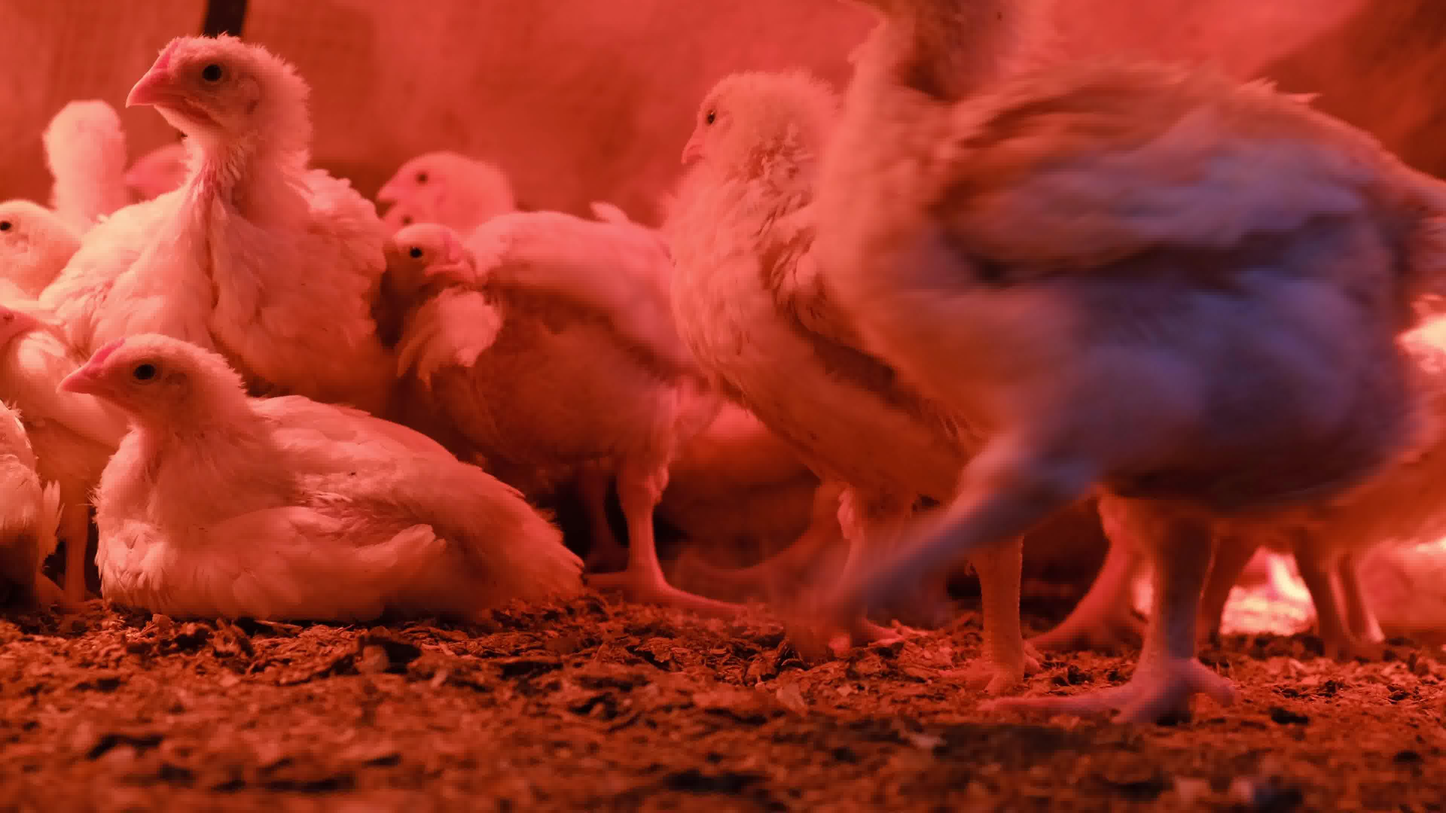AbNormal: (59, 330, 585, 619), (0, 286, 49, 608)
Normal: (821, 0, 1372, 732), (673, 68, 1042, 691), (367, 155, 744, 618), (43, 34, 388, 438), (0, 202, 117, 611), (375, 222, 475, 371), (46, 94, 130, 256)
